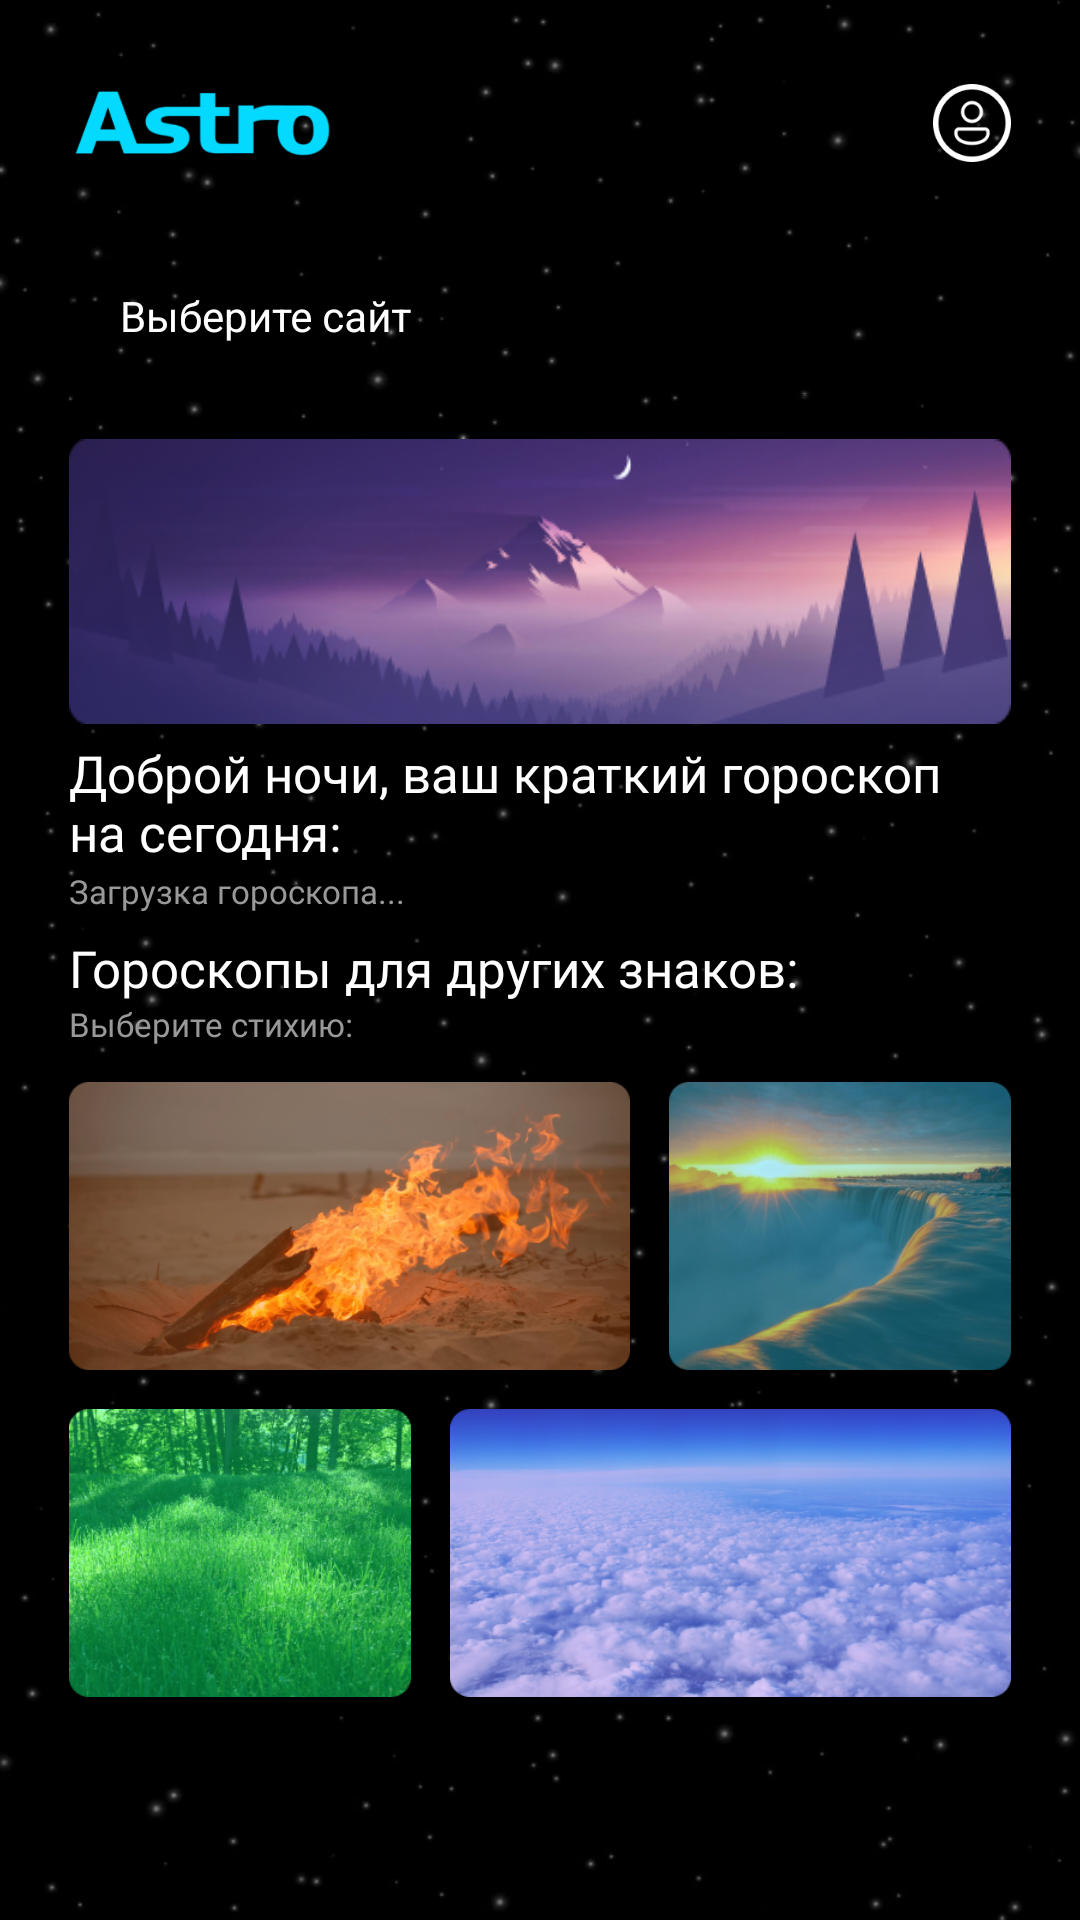

Where icons sit on this 1080 × 1920 app screen, as (x1, y1, x2, y2):
ground: (69, 1409, 411, 1697)
user: (933, 84, 1011, 162)
water: (669, 1082, 1011, 1370)
